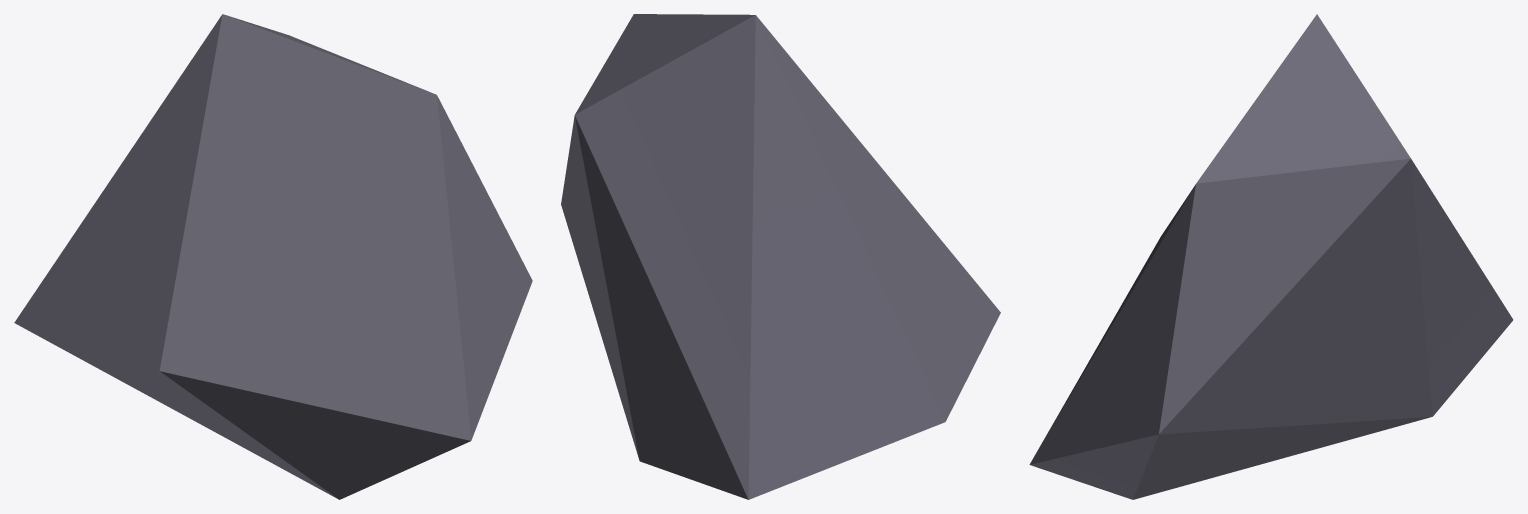
The model's file is smallrock2.fbx.
3 views of the same model, side by side, from view 1: azimuth 30°, elevation 25°; view 2: azimuth 150°, elevation 25°; view 3: azimuth 270°, elevation 25° (orthographic). The views are drawn at different scales.
Visible parts, largest first — view 1: Roundcube.003; view 2: Roundcube.003; view 3: Roundcube.003.
Part boxes in pixels (box(x1,y1,x2,y2)): Roundcube.003: box(14, 14, 532, 499); Roundcube.003: box(561, 14, 1000, 499); Roundcube.003: box(1029, 14, 1513, 499).
Bounding box in the file's own units: 57.92 × 56.67 × 53.03.
